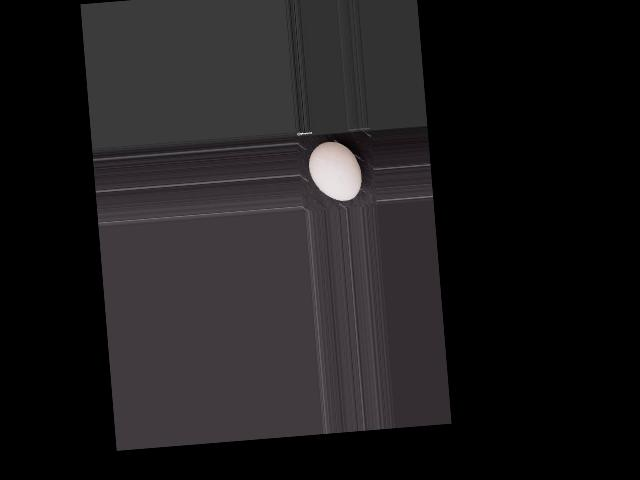egg: (307, 139, 363, 203)
